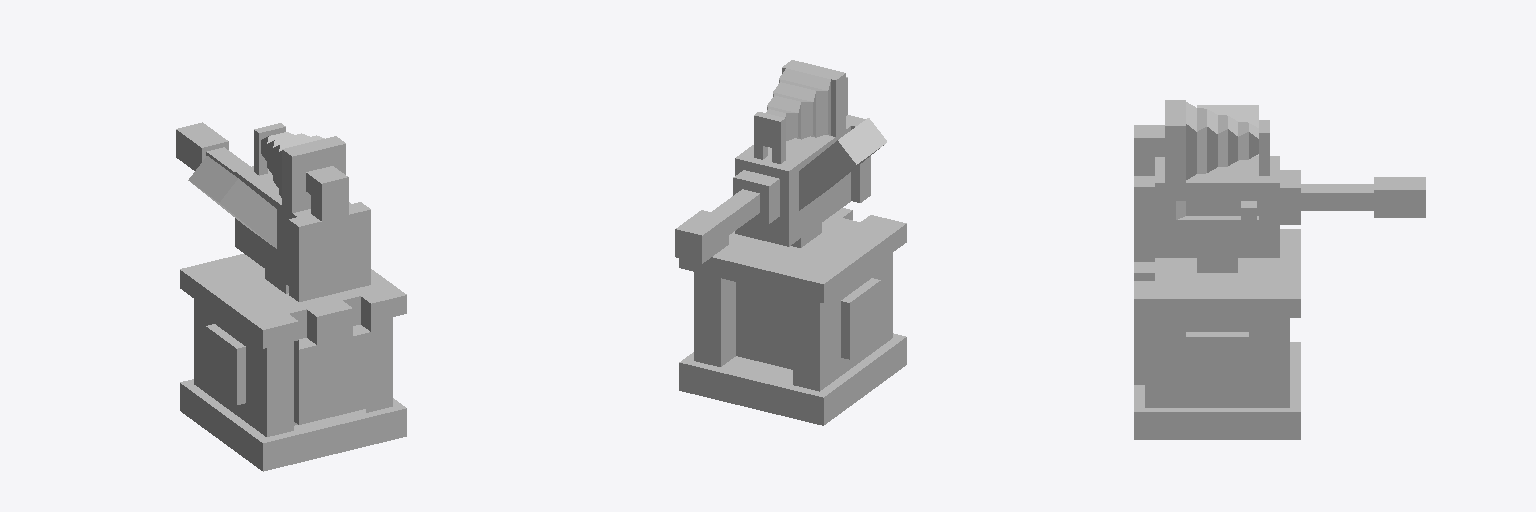
Rendered from gunTurret_inv.obj.
The picture shows the model from 3 angles: view 1: azimuth 30°, elevation 25°; view 2: azimuth 150°, elevation 25°; view 3: azimuth 270°, elevation 25°; orthographic projection.
Parts seen in each view (by area): view 1: base, gun; view 2: base, gun; view 3: base, gun, action.
Part boxes in pixels (x1,y1,x2,y2): base: (180, 254, 406, 471); gun: (176, 122, 370, 301); base: (679, 208, 906, 425); gun: (675, 60, 886, 263); base: (1134, 229, 1300, 439); gun: (1134, 100, 1425, 272); action: (1186, 201, 1258, 221).
Bounding box in the file's own units: 1.09 × 1.94 × 1.75.